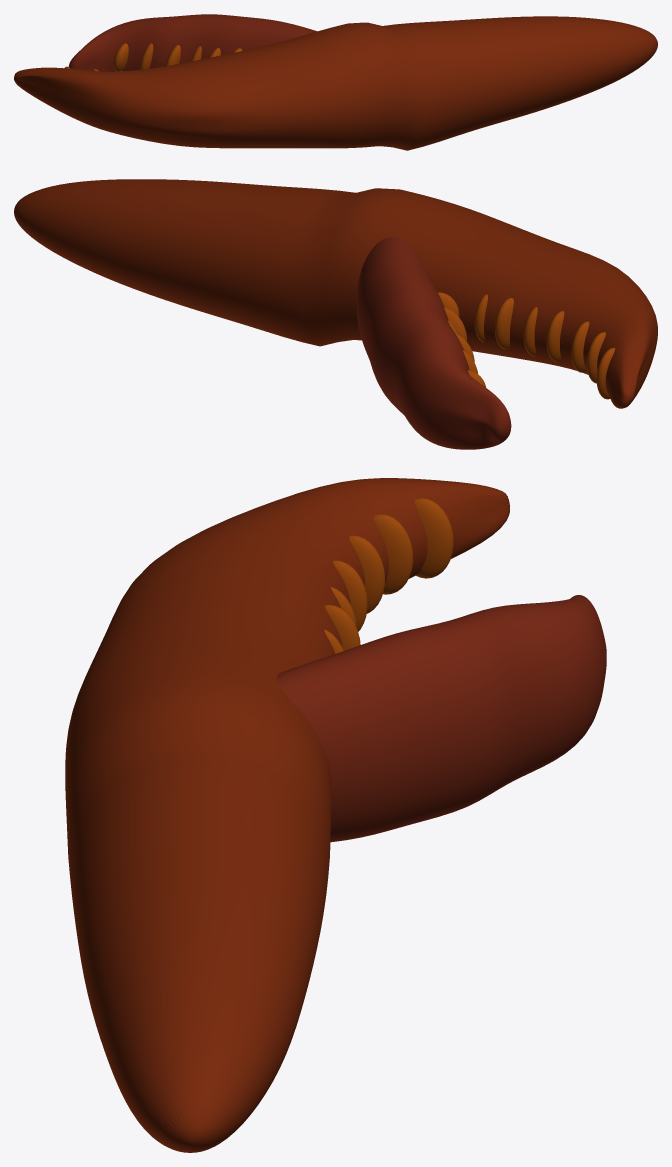
Rendered from claw 1.fbx.
3 renders of one model, top to bottom at view 1: azimuth 30°, elevation 25°; view 2: azimuth 150°, elevation 25°; view 3: azimuth 270°, elevation 25°, orthographic. The views are drawn at different scales.
Parts seen in each view (by area): view 1: Sphere.014; view 2: Sphere.014; view 3: Sphere.014.
Boxes of the visible parts, x1,y1,x2,y2 form: Sphere.014: [14, 14, 657, 150]; Sphere.014: [14, 179, 657, 449]; Sphere.014: [65, 478, 606, 1152].
Size of the model in its own units: 563 by 114 by 233.
